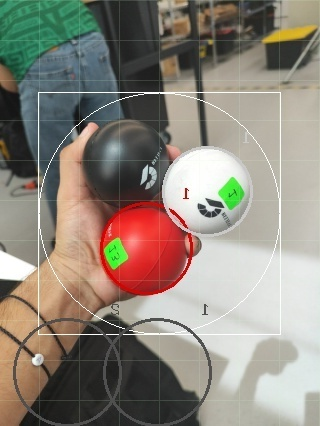Pelota blanca: (162, 145, 254, 238)
Pelota negra: (7, 316, 214, 425), (82, 118, 172, 203)
Pelota roja: (98, 198, 201, 296)
